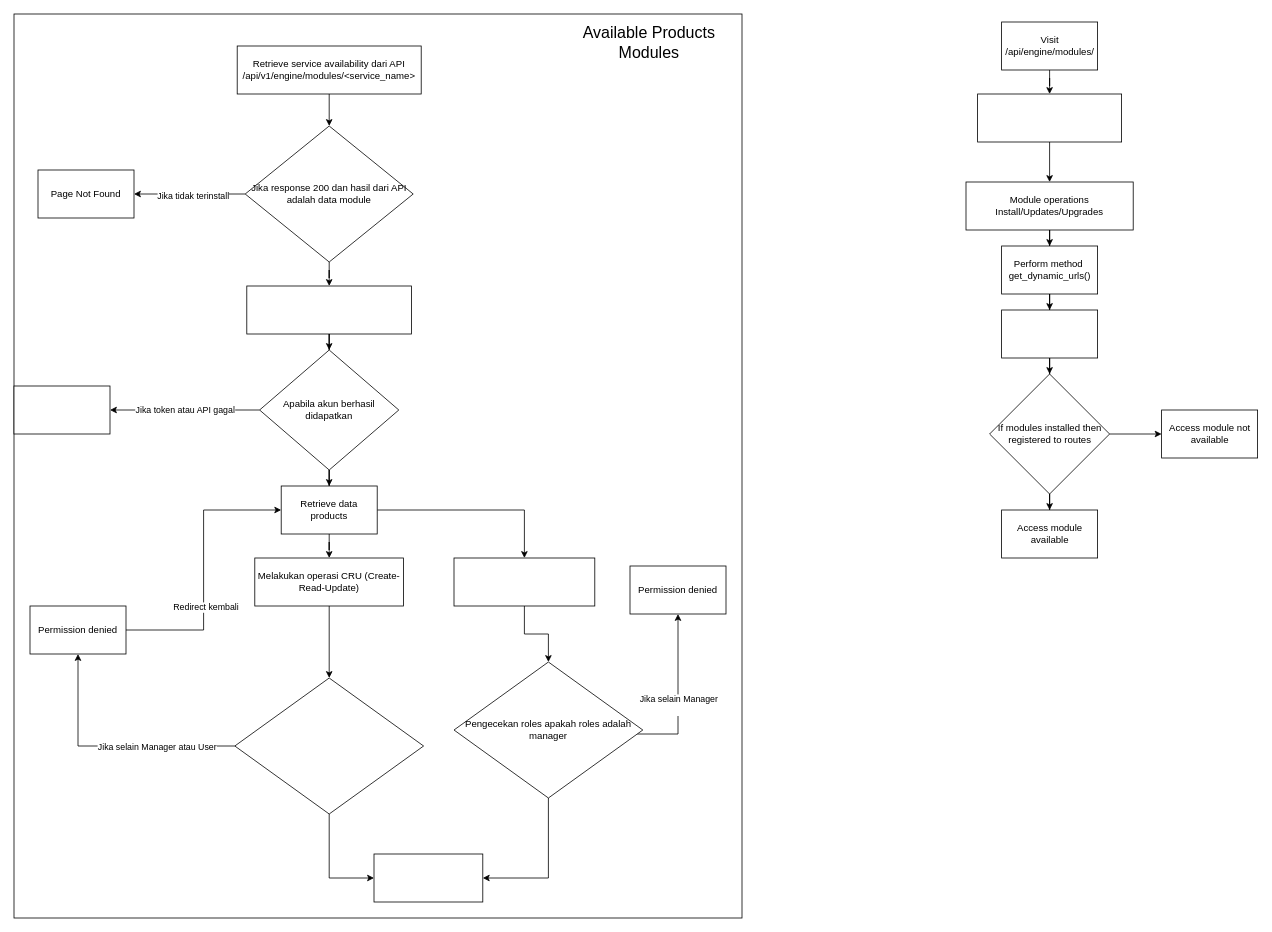
Image size: 1272x932. Some labels were removed from this diagram. Here are the shapes that lost their labels. From the top down, the box of each, then its label:
(977, 93, 1122, 142): List available modules
(246, 285, 412, 334): Retrieve data akun dari API /api/v1/authentication/account/
(1001, 309, 1098, 358): Perform clear_cache_urls()
(13, 385, 110, 434): Redirect ke login
(453, 557, 595, 606): Melakukan operasi Delete
(234, 677, 424, 814): Pengecekan roles apakah roles adalah manager atau user
(373, 853, 483, 902): Success operasi products
